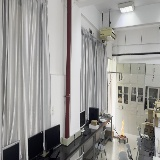fire: (120, 120, 125, 138)
